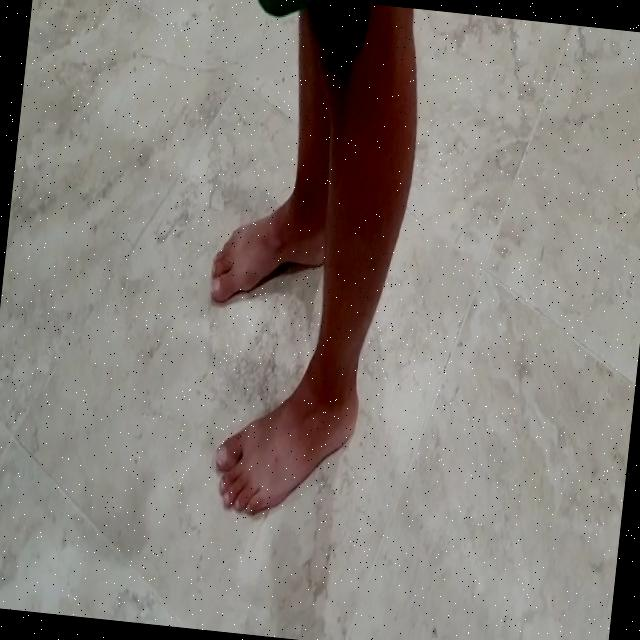no-boots: (200, 350, 370, 558), (200, 178, 331, 322)
